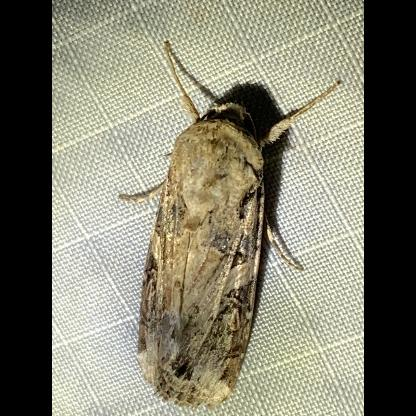Fall Armyworm Moth: (115, 38, 346, 412)
